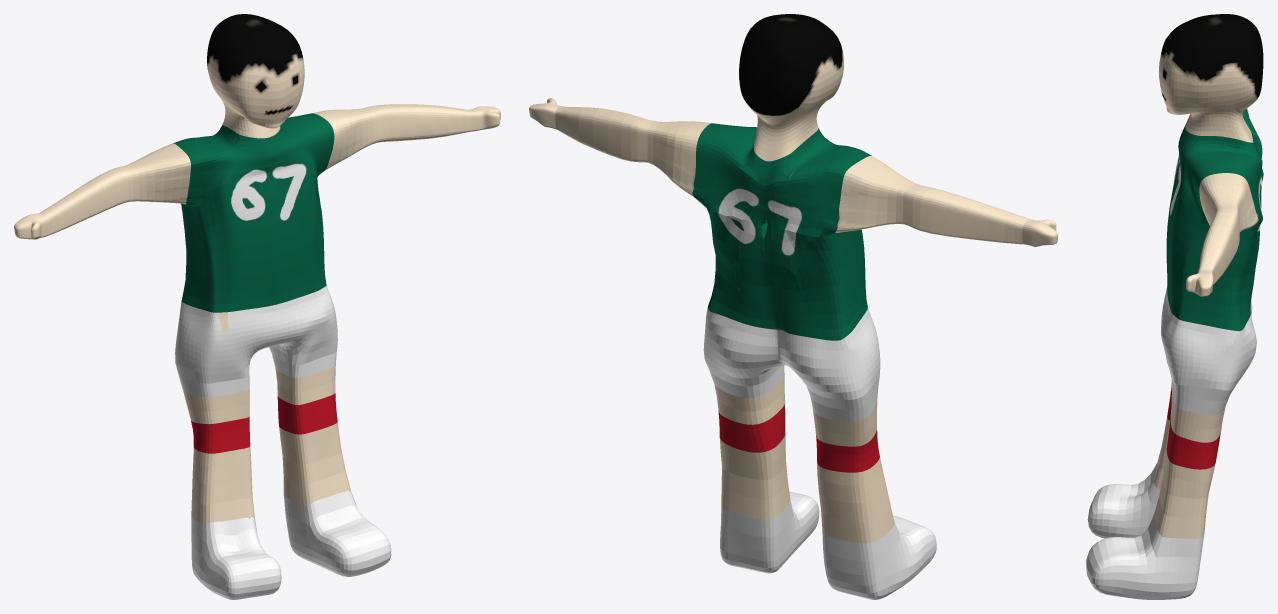
Rendered from jugadormx.fbx.
3 renders of one model, left to right at view 1: azimuth 30°, elevation 25°; view 2: azimuth 150°, elevation 25°; view 3: azimuth 270°, elevation 25°, orthographic. The views are drawn at different scales.
Visible parts, largest first — view 1: Cube; view 2: Cube; view 3: Cube.
Part boxes in pixels (<box>): Cube: <box>14,14,500,599</box>; Cube: <box>529,14,1057,599</box>; Cube: <box>1086,14,1263,599</box>.
Bounding box in the file's own units: 1026 × 1073 × 316.
Materials: 1 (1 with a texture image).
